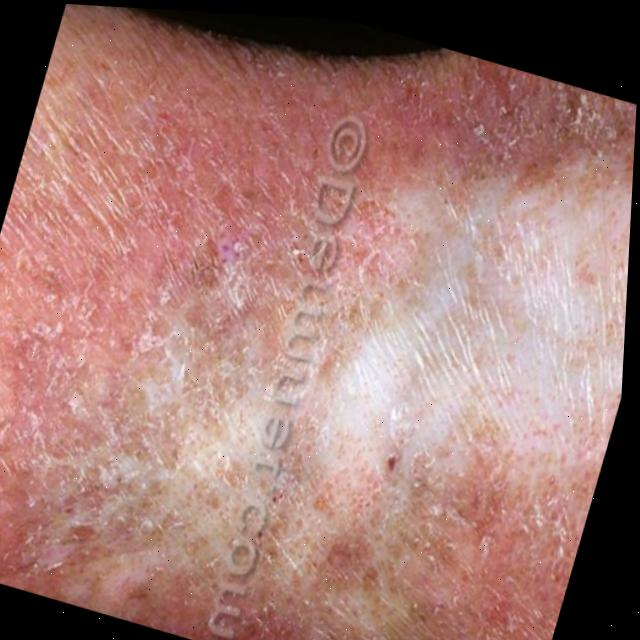Eczema: (0, 33, 638, 640)
